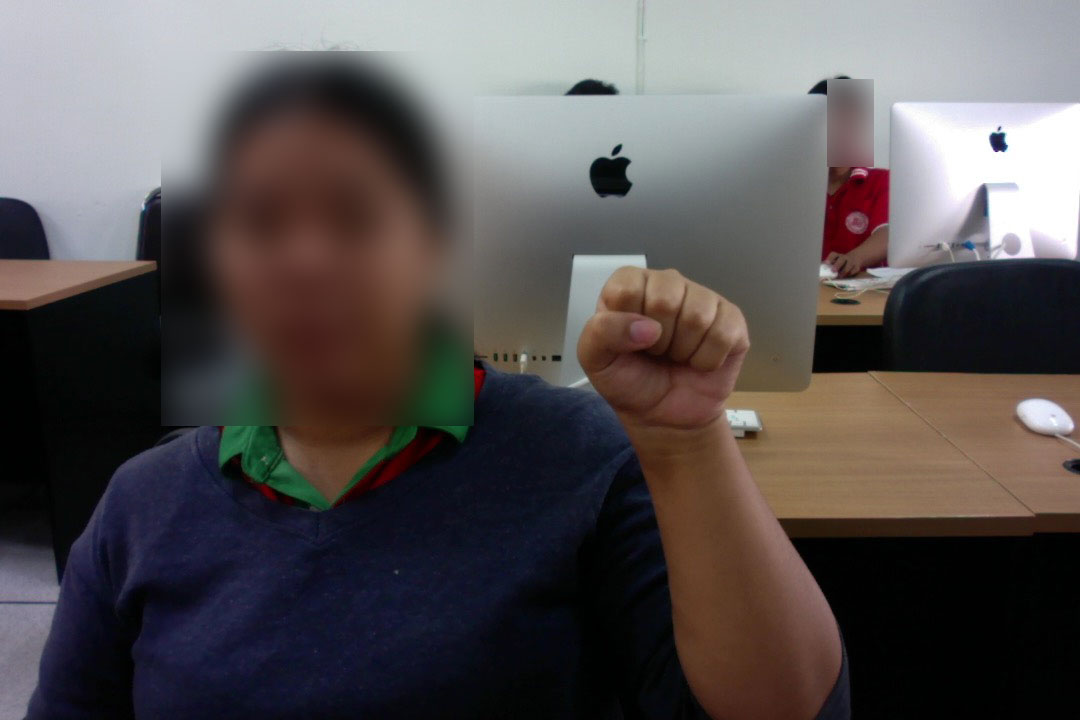sor: (570, 252, 755, 445)
